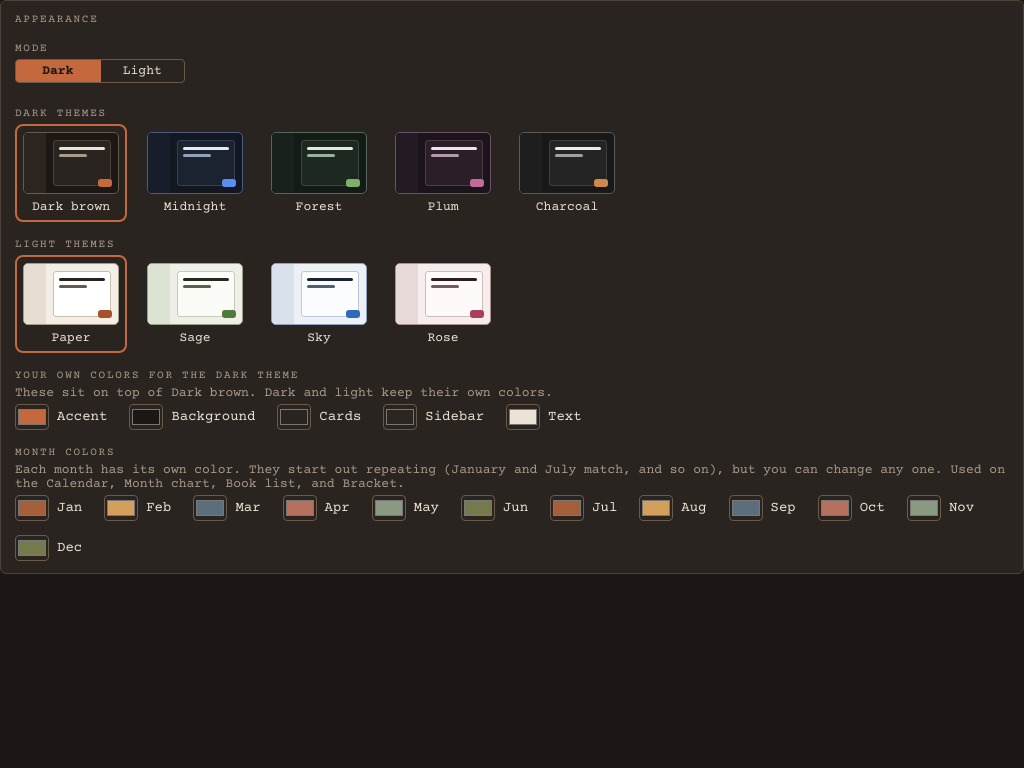
the Appearance settings › keeps your own colors apart for dark and light, and can go back to the preset
The image size is (1024, 768).
Type "#000000" into the colour field named "Background color" at [146, 417], box [129,404,163,430]
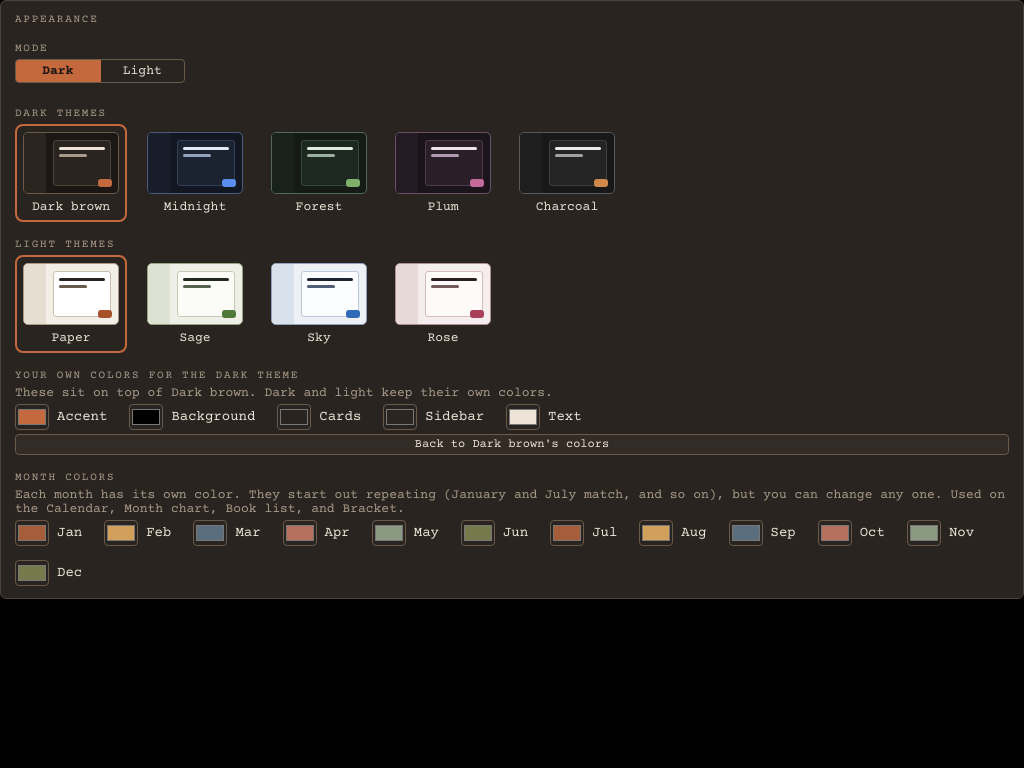
Click the button with aria-label "Paper theme" at [71, 304], box [15,255,127,353]
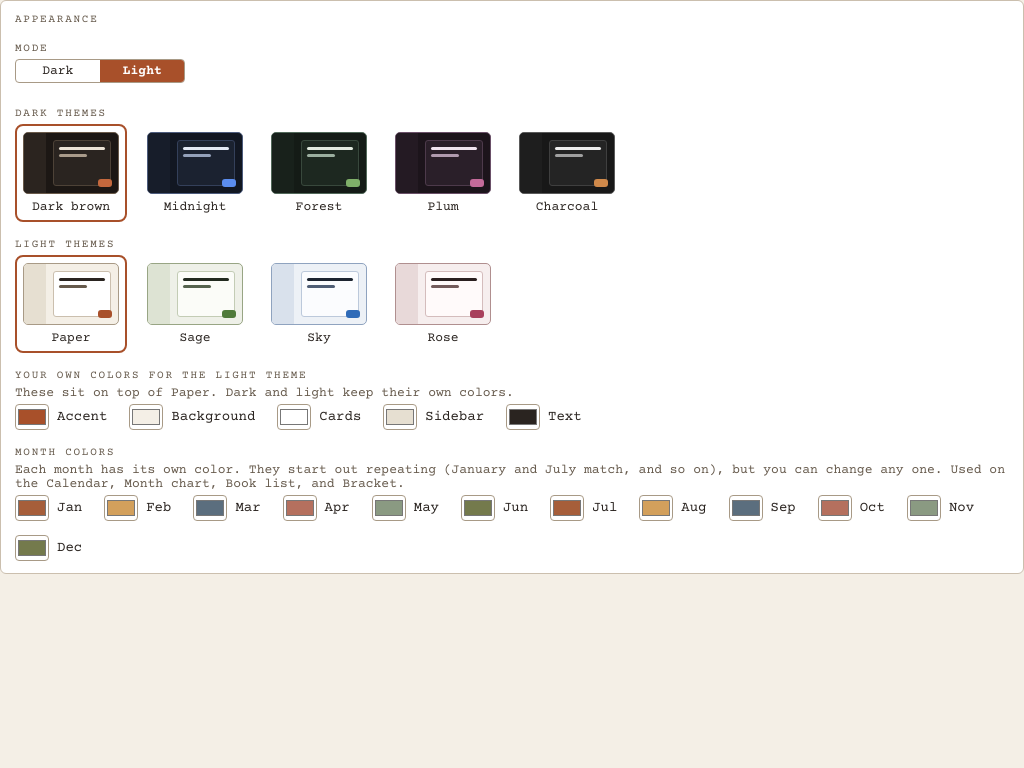
Click the button "Dark" at [58, 71], box [16,60,100,82]
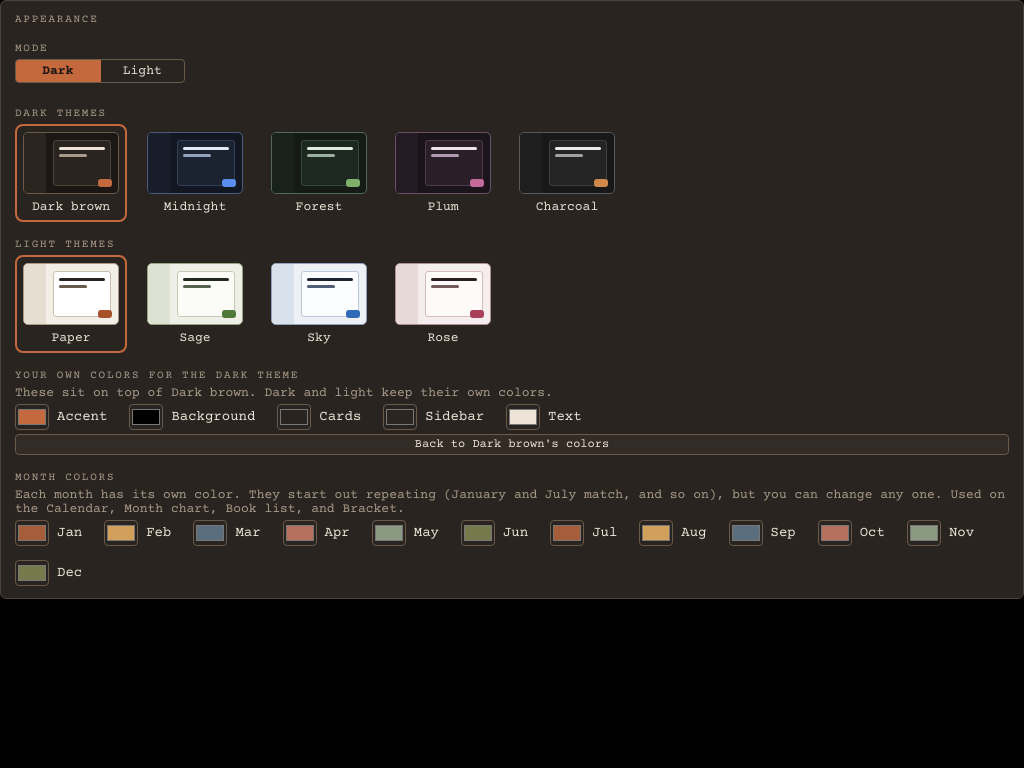
Click the button "Back to Dark brown's colors" at [512, 444], box [15,434,1009,455]
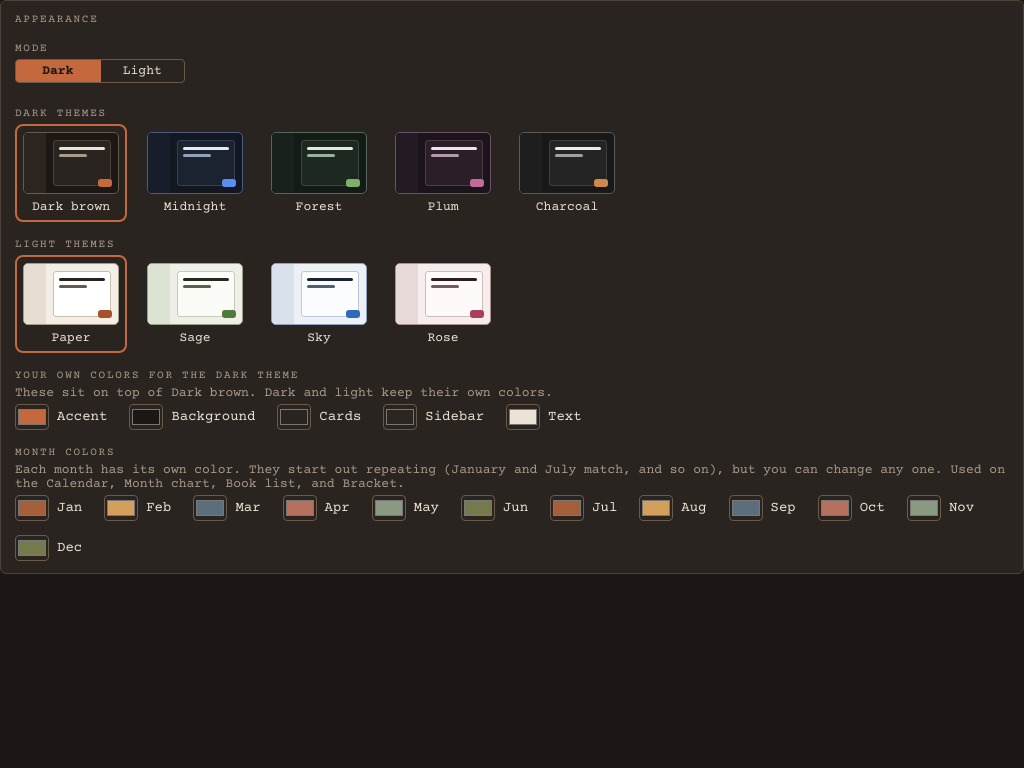
Now the button "Back to Dark brown" is gone
